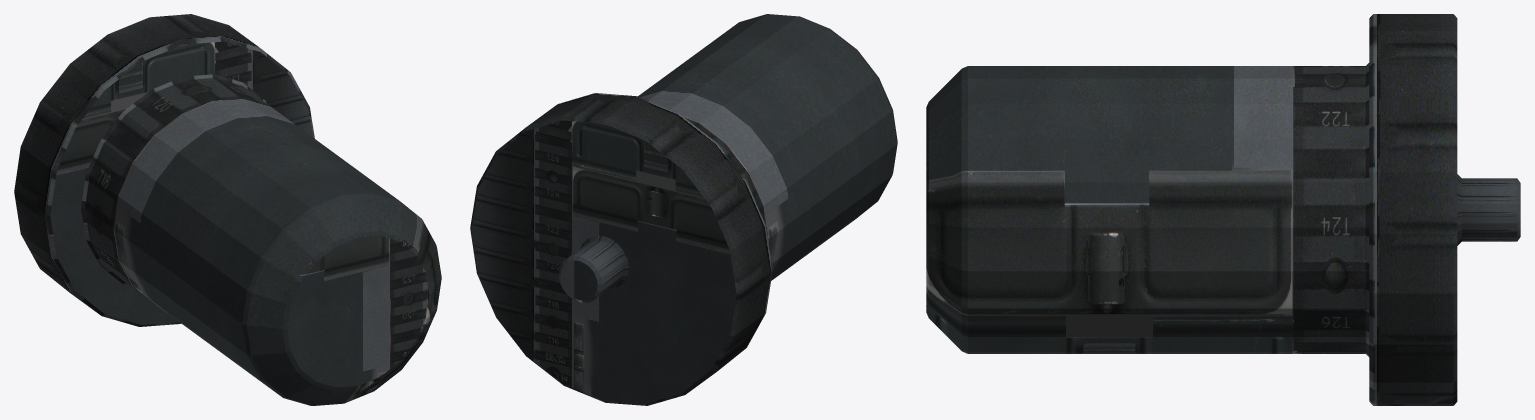
File: Trigger_Guard_Detent.dae
3 views of the same model, side by side, from view 1: azimuth 30°, elevation 25°; view 2: azimuth 150°, elevation 25°; view 3: azimuth 270°, elevation 25° (orthographic). The views are drawn at different scales.
Parts seen in each view (by area): view 1: Trigger_Guard_Detent; view 2: Trigger_Guard_Detent; view 3: Trigger_Guard_Detent.
Part boxes in pixels (<box>): Trigger_Guard_Detent: <box>14,14,441,405</box>; Trigger_Guard_Detent: <box>470,14,897,405</box>; Trigger_Guard_Detent: <box>926,14,1520,405</box>.
Size of the model in its own units: 0.00386 by 0.00581 by 0.00386.
1 material, 1 textured.
